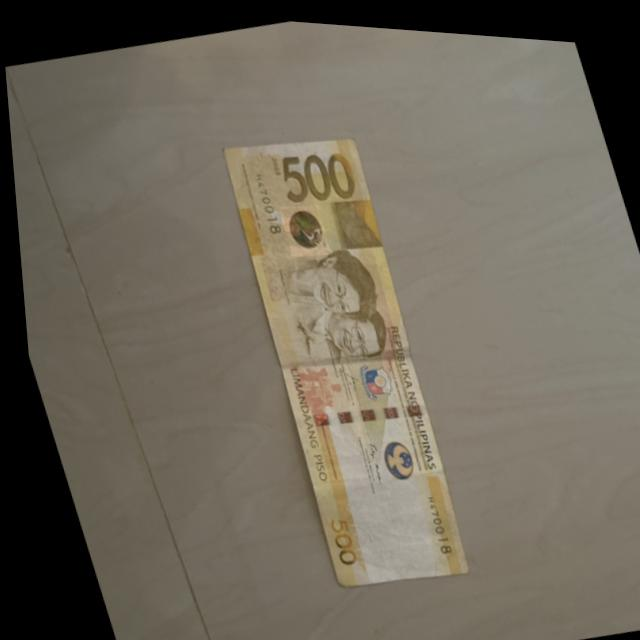concealed_value: (327, 192, 378, 250)
optically_variable_device: (279, 194, 324, 244)
serial_number: (238, 156, 289, 251)
value: (264, 128, 362, 220)
watermark: (335, 475, 435, 574)
